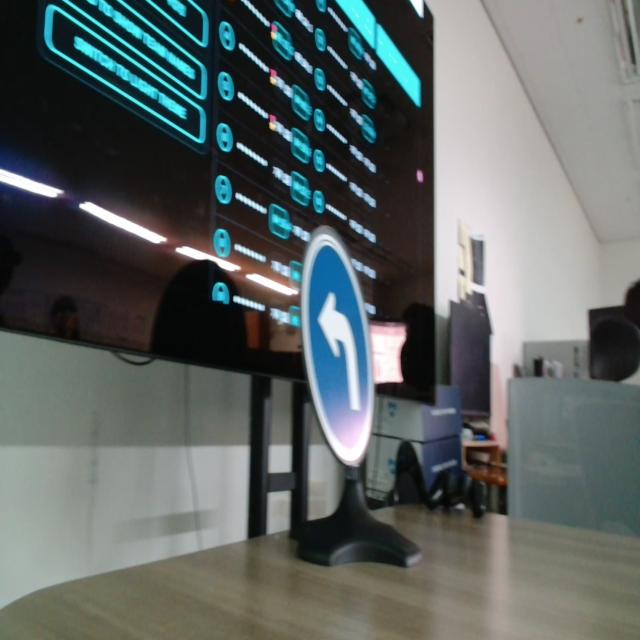left_direction: (286, 196, 392, 501)
